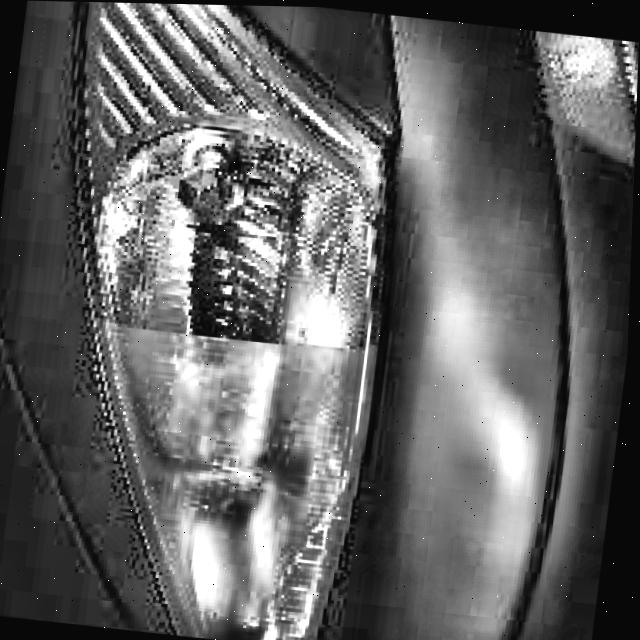head_lamp: (95, 84, 394, 370)
